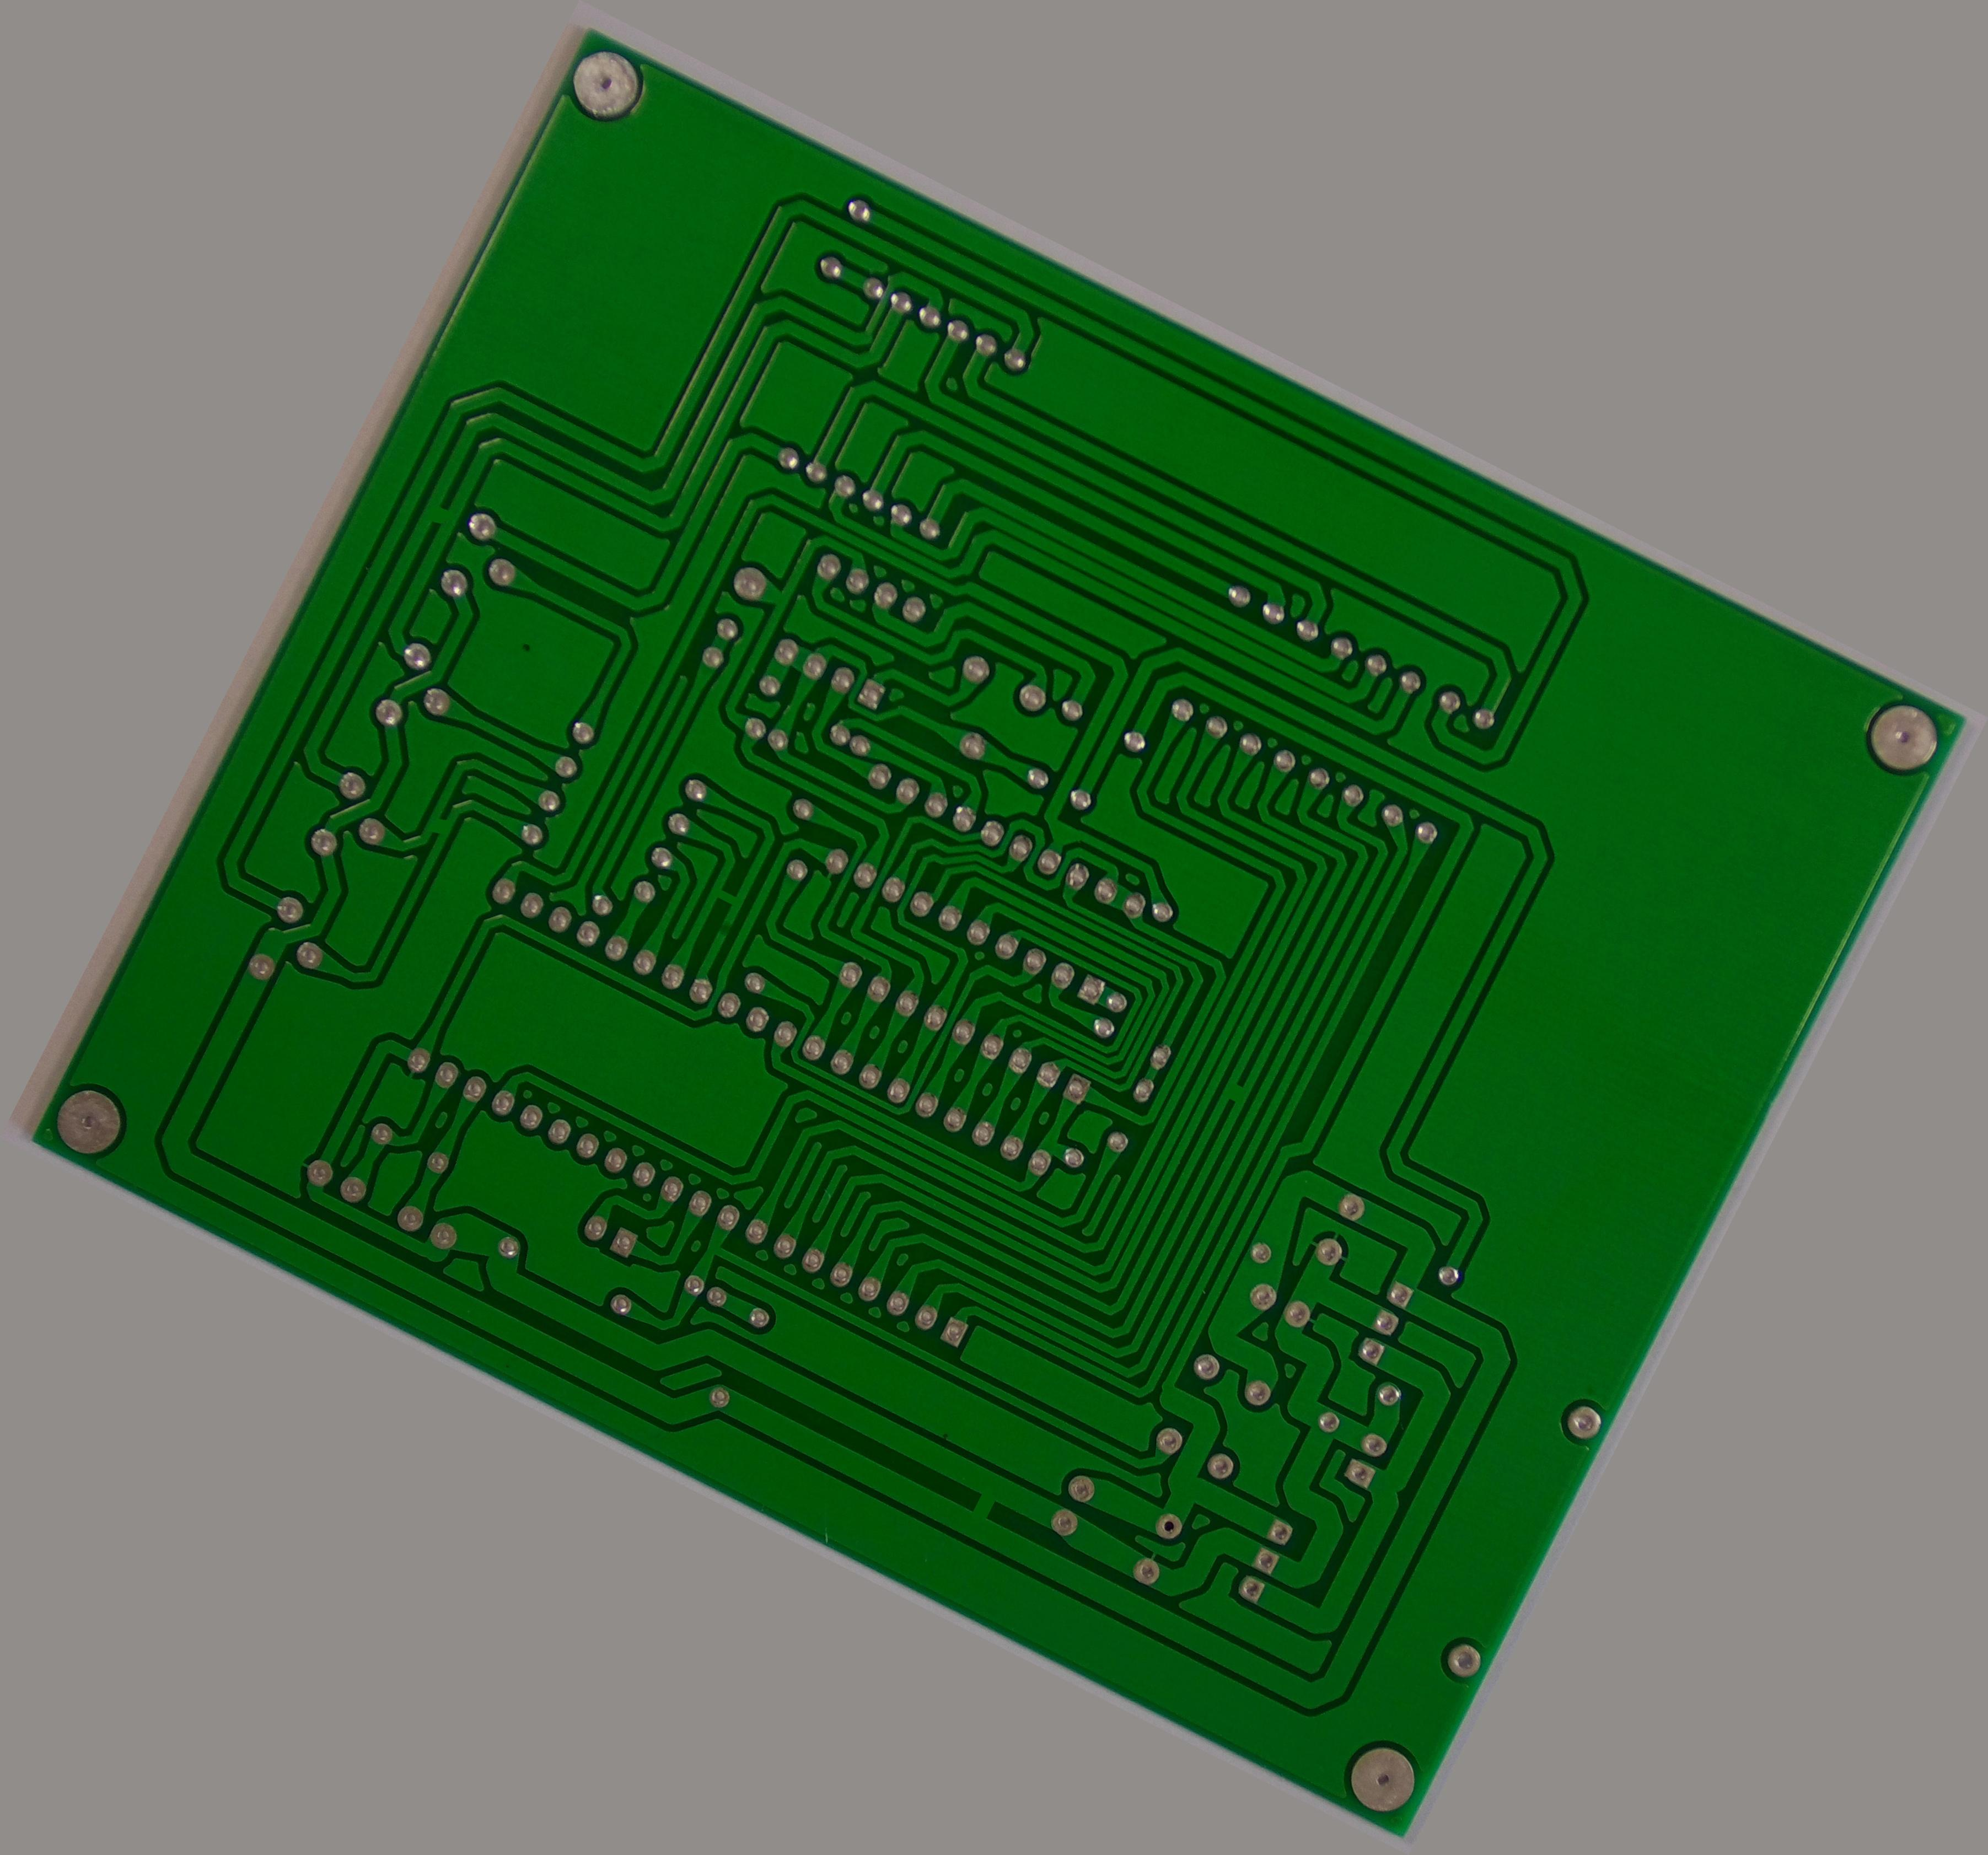short: (940, 1468, 1020, 1541), (410, 485, 469, 544), (699, 873, 752, 924), (419, 802, 464, 849), (1212, 1072, 1256, 1112)
